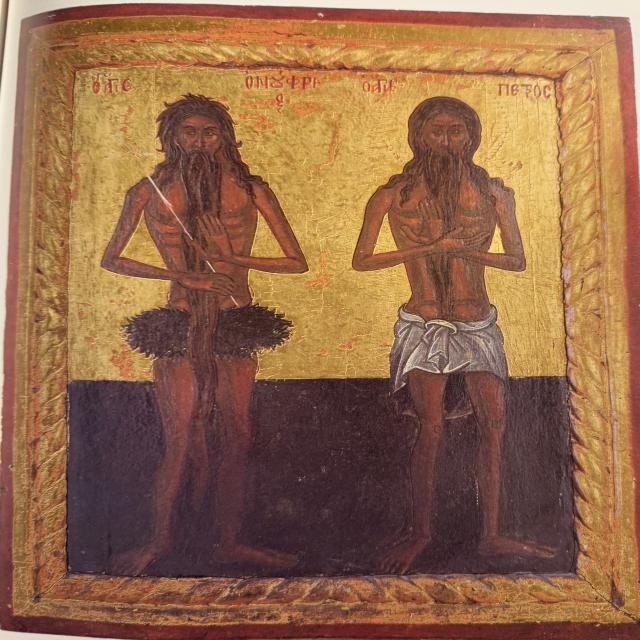aura: (373, 78, 515, 171), (132, 75, 268, 165)
saint: (92, 68, 316, 568), (350, 77, 558, 573)
